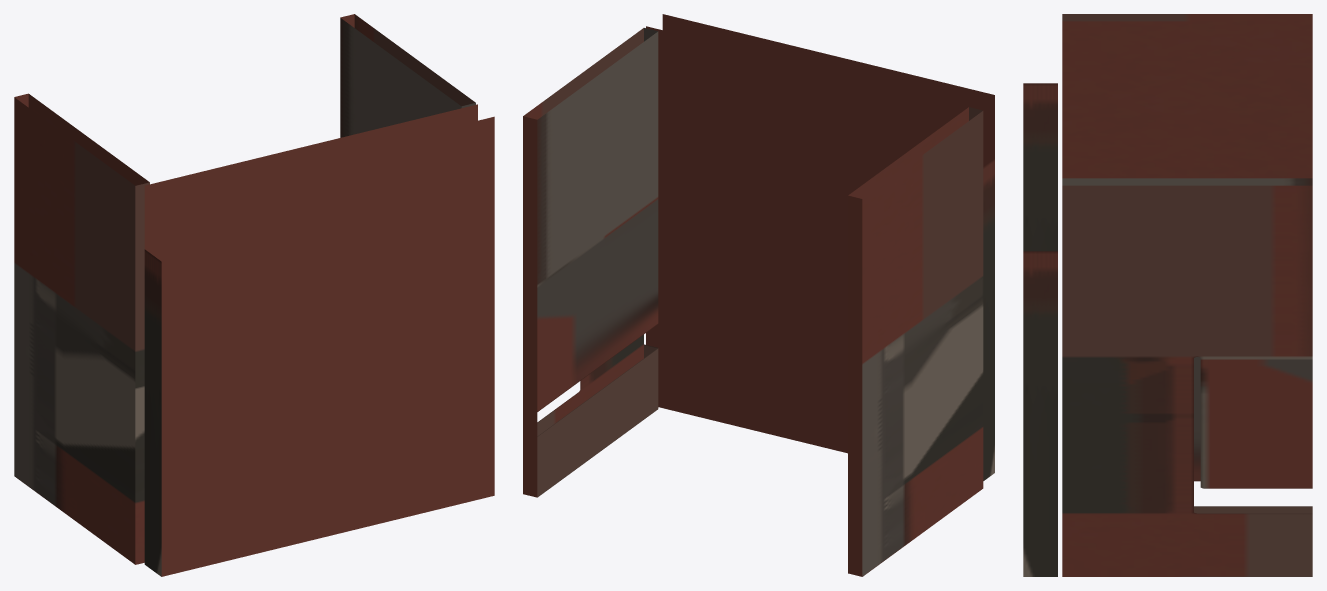
File: section-19.obj
The picture shows the model from 3 angles, left to right: view 1: azimuth 30°, elevation 25°; view 2: azimuth 150°, elevation 25°; view 3: azimuth 270°, elevation 25°; orthographic projection. The views are drawn at different scales.
Bounding box in the file's own units: 0.94 × 1 × 0.67.
